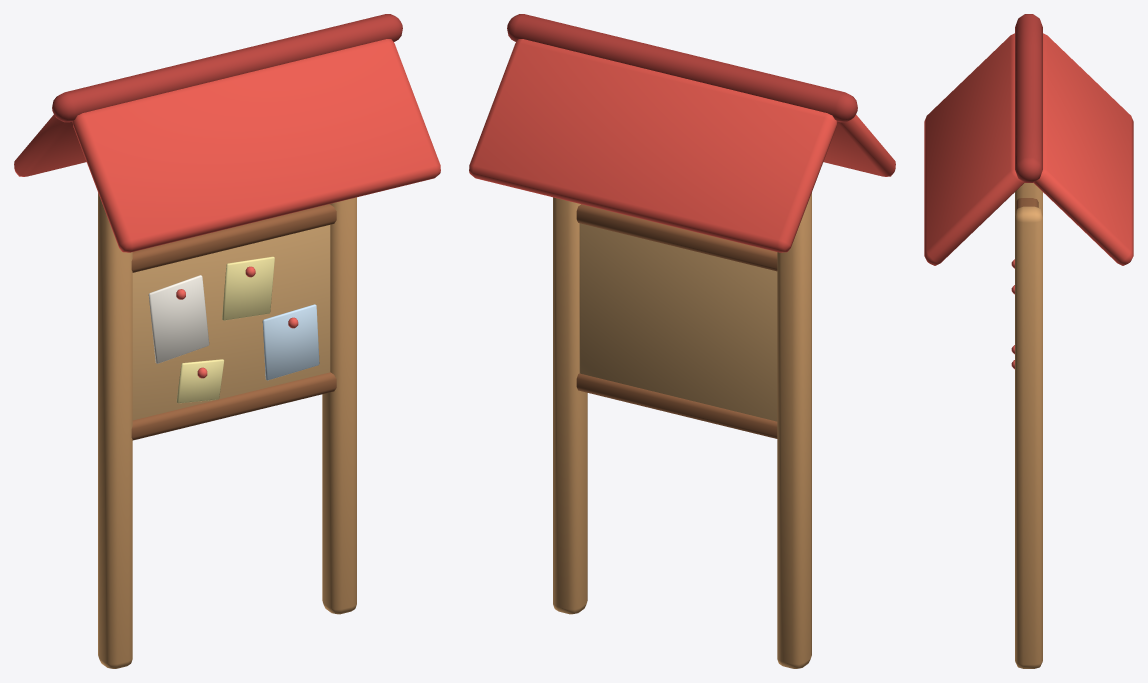
Rendered from prop_board.glb.
The picture shows the model from 3 angles, left to right: view 1: azimuth 30°, elevation 25°; view 2: azimuth 150°, elevation 25°; view 3: azimuth 270°, elevation 25°; orthographic projection. The views are drawn at different scales.
Parts seen in each view (by area): view 1: prop_board; view 2: prop_board; view 3: prop_board.
Boxes of the visible parts, x1=… form: prop_board: x1=14, y1=14, x2=440, y2=668; prop_board: x1=469, y1=14, x2=895, y2=668; prop_board: x1=924, y1=14, x2=1133, y2=668.
Size of the model in its own units: 1.3 by 2.09 by 0.746.
